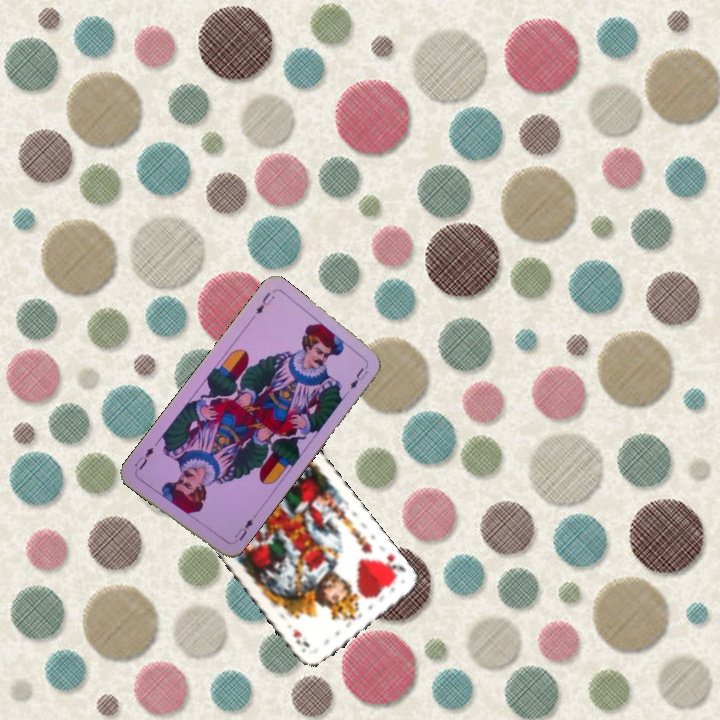EU: (227, 513, 257, 547), (252, 288, 277, 317)
HK: (375, 549, 409, 581)
